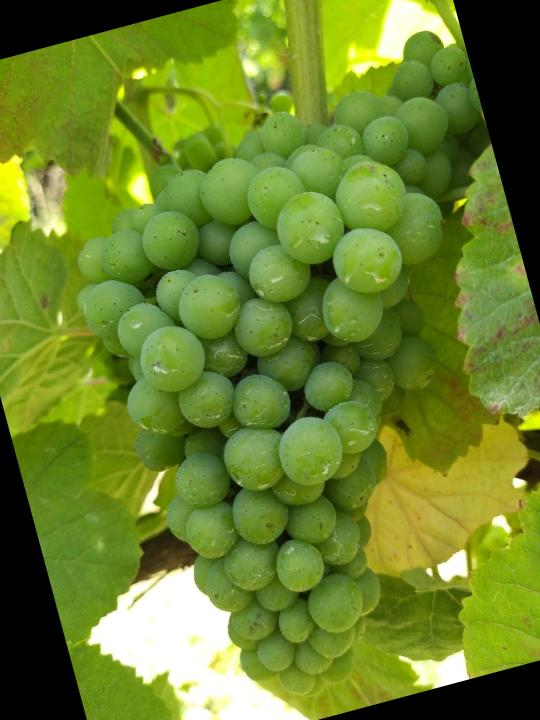grape: (42, 103, 540, 720)
